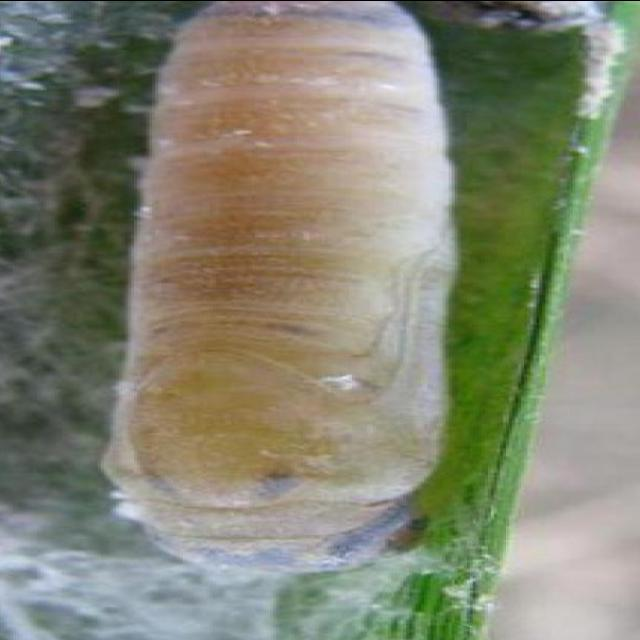leaf folder: (104, 0, 455, 570)
